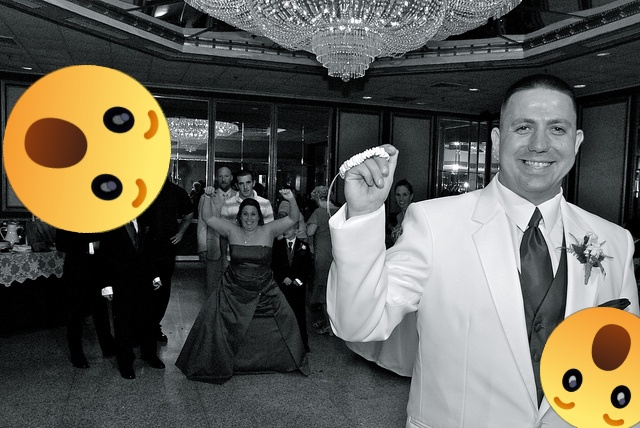wow: (3, 65, 171, 233), (540, 307, 640, 428)
